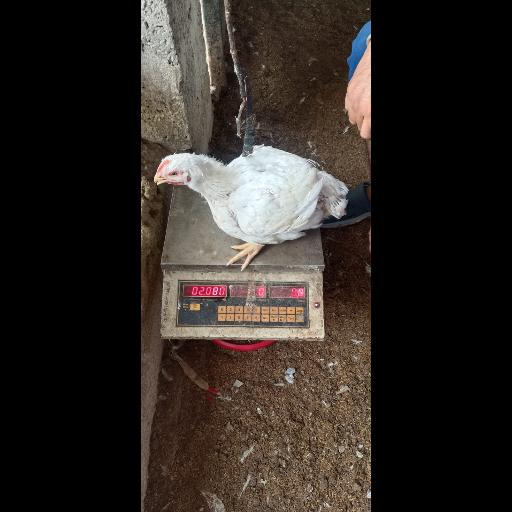chick: (155, 146, 349, 270)
